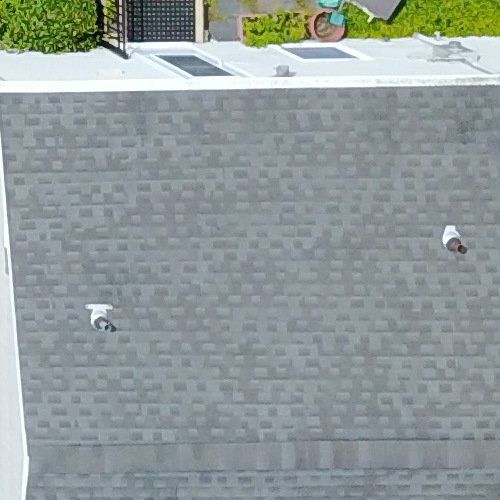container: (305, 5, 350, 46)
